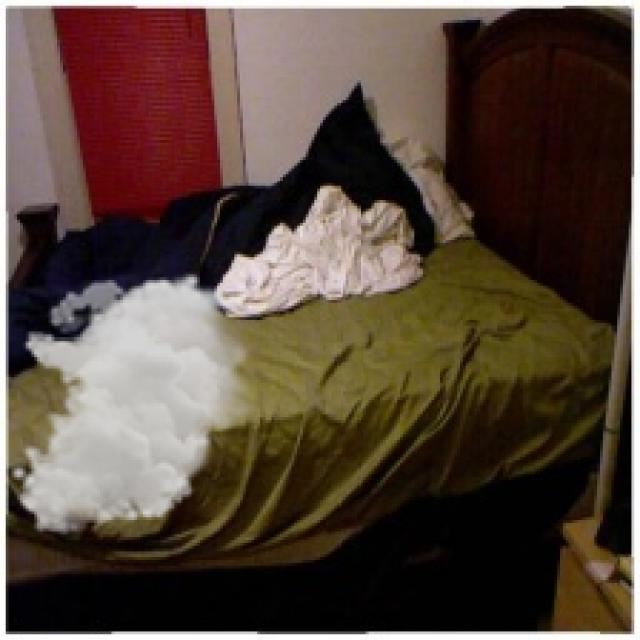smoke: (9, 272, 260, 534)
